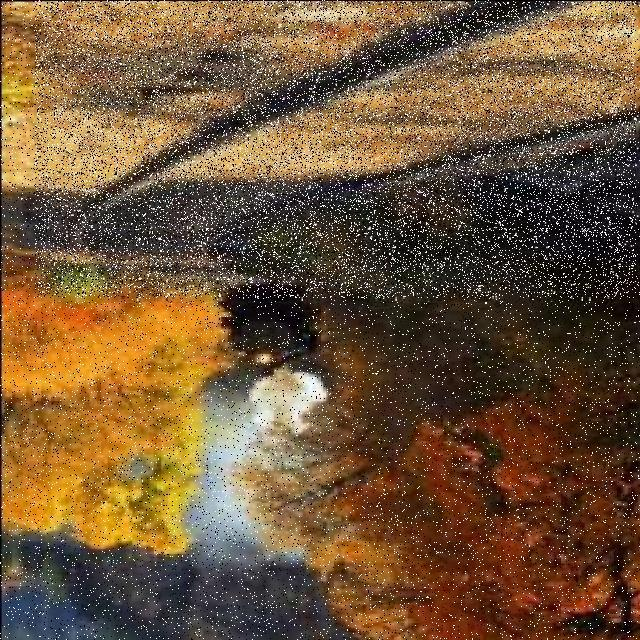rail: (36, 1, 636, 298)
